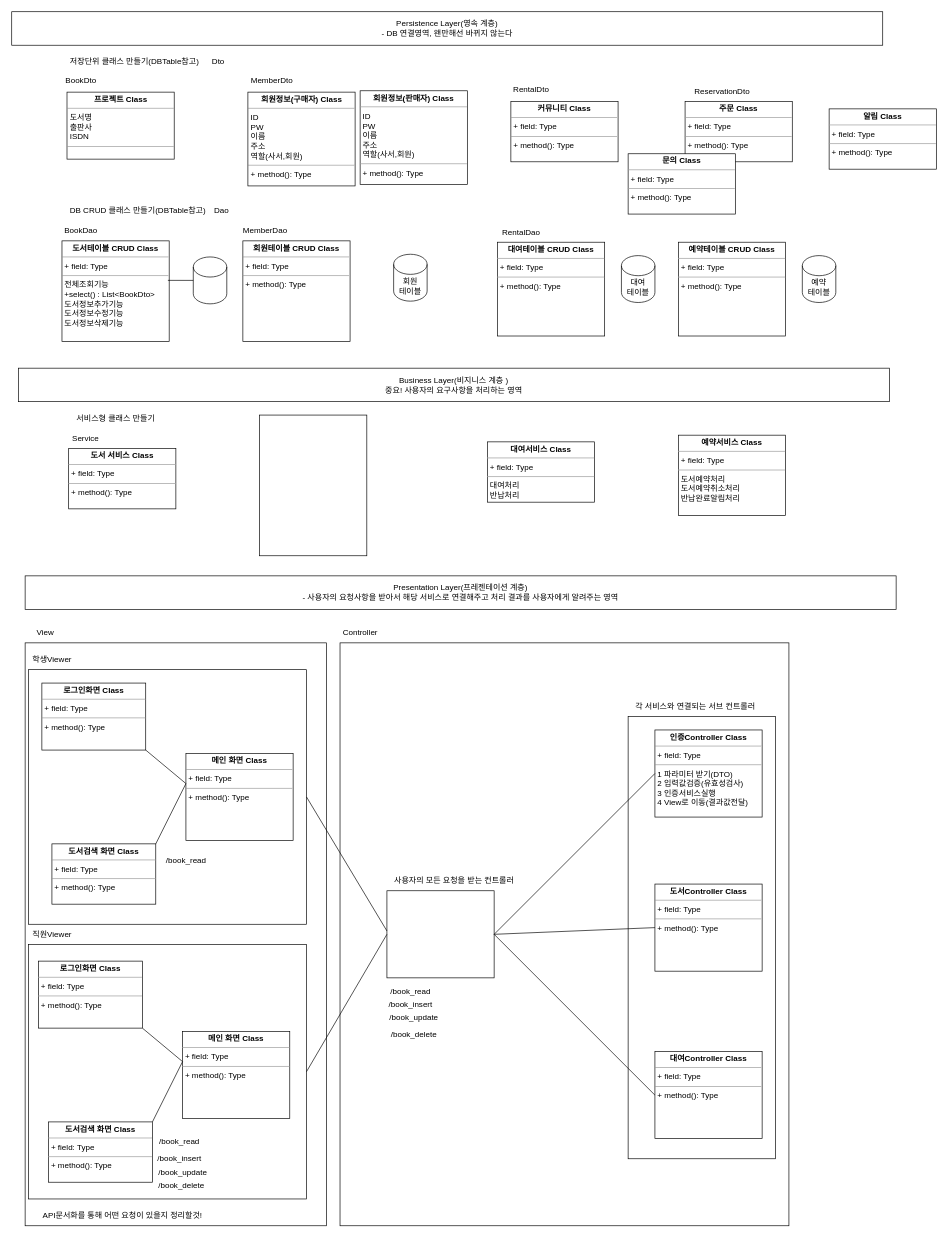
This 948x1237 diagram has some shape labels left out. The box of each missing label's shape, as (x1, y1, x2, y2) in pixels:
FrontController Class + field: Type + method(): Type: (386, 890, 494, 978)
도서 테이블: (193, 256, 227, 304)
인증서비스 Class + field: Type 회원가입 회원조회 회원수정 회원탈퇴 회원 로그인 사서 로그인 로그아웃 권한처리: (259, 414, 367, 556)
